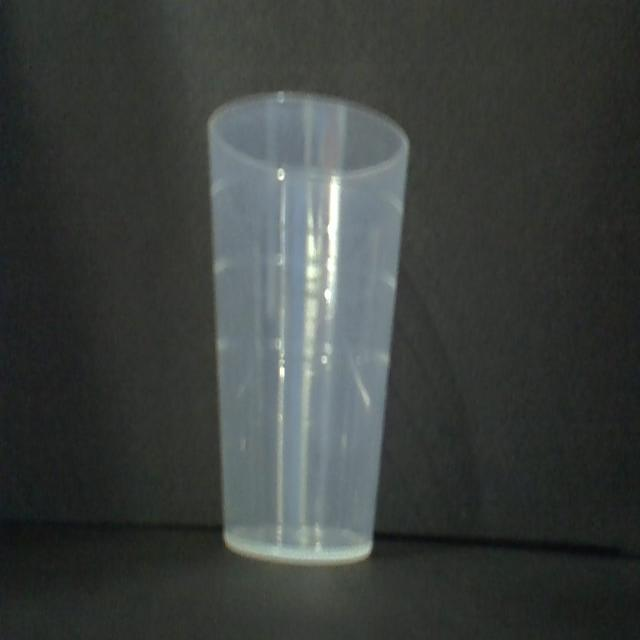cup: (204, 92, 412, 568)
